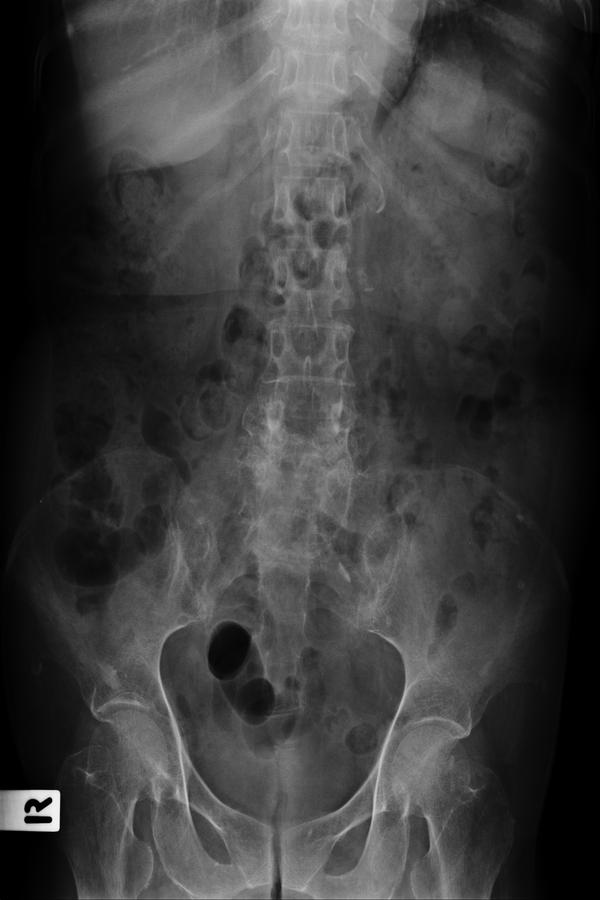lumbar scoliosis: (240, 5, 368, 568)
